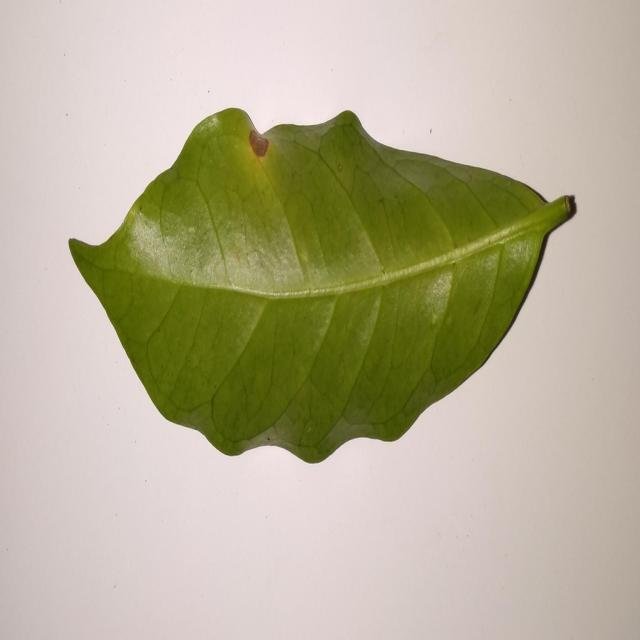Enfermedad-Mancha-de-hierro: (67, 109, 578, 468)
